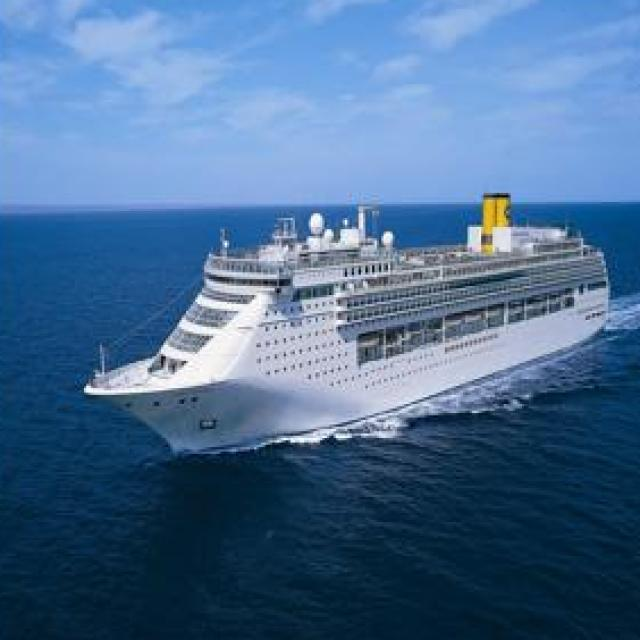passenger ship: (81, 174, 628, 453)
